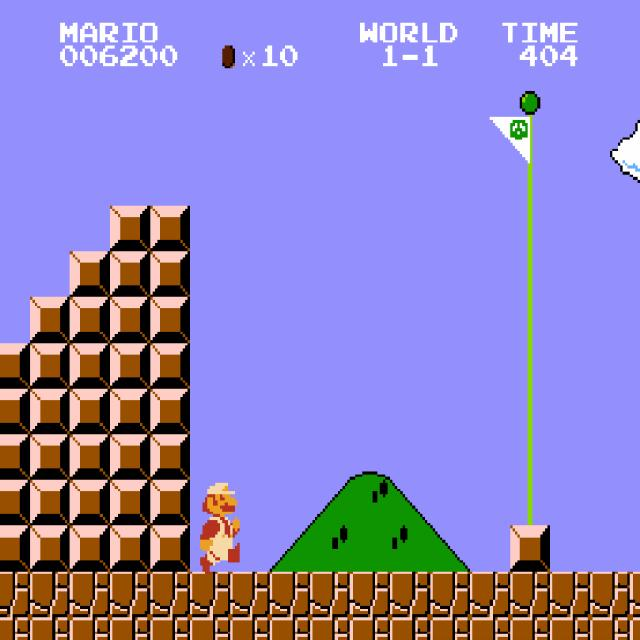fire_mario: (197, 480, 240, 574)
goal_pole: (510, 114, 550, 160), (510, 160, 550, 206), (510, 297, 550, 343), (510, 434, 550, 480), (510, 480, 550, 526), (510, 69, 550, 114), (510, 206, 550, 251), (510, 252, 550, 297), (510, 343, 550, 388), (510, 389, 550, 434)
hard_block: (30, 297, 70, 343), (30, 434, 70, 480), (30, 480, 70, 526), (70, 297, 110, 343), (70, 434, 110, 480), (70, 480, 110, 526), (110, 297, 150, 343), (110, 434, 150, 480), (110, 480, 150, 526), (150, 297, 190, 343), (150, 434, 190, 480), (150, 480, 190, 526), (30, 343, 70, 388), (30, 389, 70, 434), (30, 526, 70, 571), (70, 252, 110, 297), (70, 343, 110, 388), (70, 389, 110, 434), (70, 526, 110, 571), (110, 206, 150, 251), (110, 252, 150, 297), (110, 343, 150, 388), (110, 389, 150, 434), (110, 526, 150, 571), (150, 206, 190, 251), (150, 252, 190, 297), (150, 343, 190, 388), (150, 389, 190, 434), (150, 526, 190, 571), (510, 526, 550, 571), (0, 434, 30, 480), (0, 480, 30, 526), (0, 343, 30, 388), (0, 389, 30, 434), (0, 526, 30, 571)
undestructible_block: (30, 572, 70, 617), (70, 572, 110, 617), (110, 572, 150, 617), (150, 572, 190, 617), (190, 572, 230, 617), (230, 572, 270, 617), (270, 572, 310, 617), (310, 572, 350, 617), (350, 572, 390, 617), (390, 572, 430, 617), (430, 572, 470, 617), (470, 572, 510, 617), (510, 572, 550, 617), (550, 572, 590, 617), (590, 572, 630, 617), (0, 572, 30, 617), (30, 617, 70, 640), (70, 617, 110, 640), (110, 617, 150, 640), (150, 617, 190, 640), (190, 617, 230, 640), (230, 617, 270, 640), (270, 617, 310, 640), (310, 617, 350, 640), (350, 617, 390, 640), (390, 617, 430, 640), (430, 617, 470, 640), (470, 617, 510, 640), (510, 617, 550, 640), (550, 617, 590, 640), (590, 617, 630, 640), (0, 617, 30, 640), (629, 571, 640, 617), (629, 617, 640, 639)
